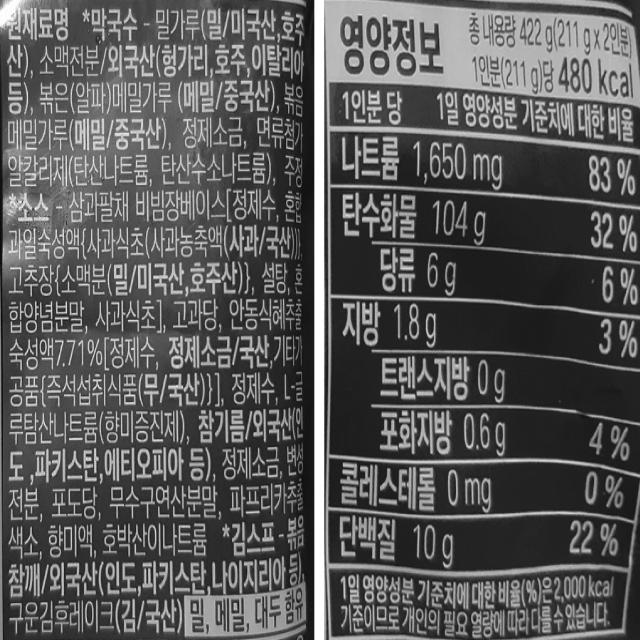Nutrition Label: (320, 0, 640, 640)
